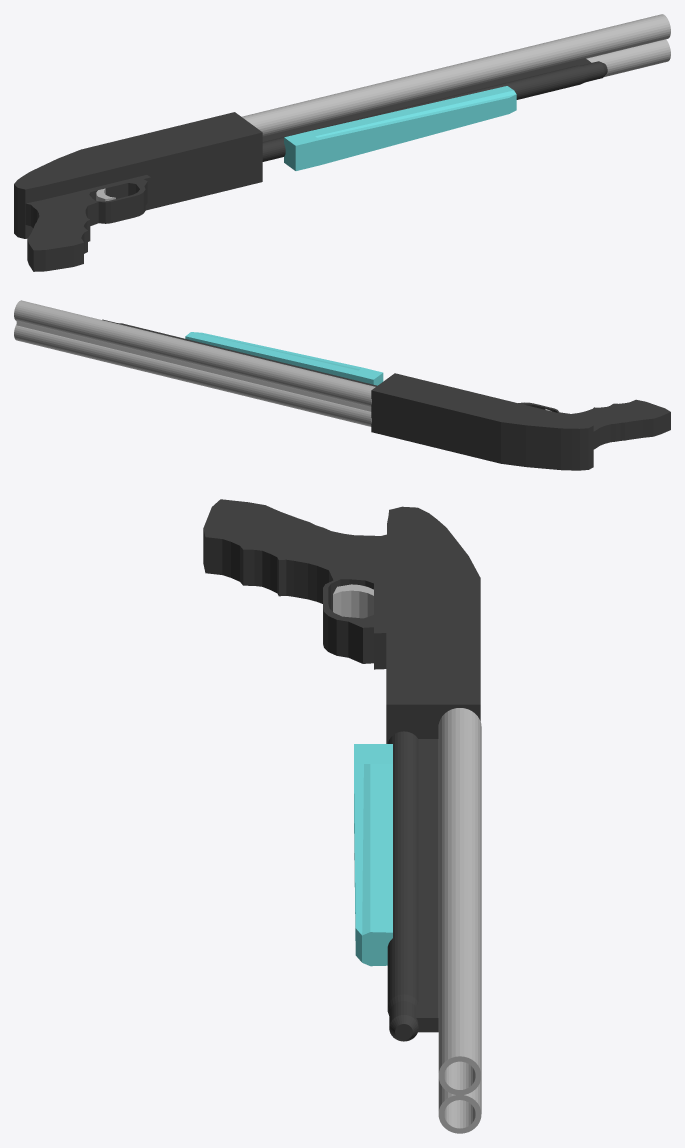
Rendered from ShotgunBasic.fbx.
3 renders of one model, top to bottom at view 1: azimuth 30°, elevation 25°; view 2: azimuth 150°, elevation 25°; view 3: azimuth 270°, elevation 25°, orthographic. The views are drawn at different scales.
Visible parts, largest first — view 1: Back, Barrels, Pump, Grip, Underhang; view 2: Barrels, Back, Grip, Pump, BarrelTopStrip, Underhang; view 3: Back, Barrels, Grip, Underhang, Pump.
Part boxes in pixels (left/top/right/bottom): Back: left=14, top=112, right=262, bottom=238; Barrels: left=241, top=14, right=670, bottom=136; Pump: left=284, top=86, right=516, bottom=170; Grip: left=25, top=175, right=150, bottom=271; Underhang: left=262, top=58, right=607, bottom=161; Barrels: left=14, top=300, right=375, bottom=426; Back: left=371, top=373, right=593, bottom=470; Grip: left=518, top=399, right=670, bottom=449; Pump: left=185, top=332, right=383, bottom=385; BarrelTopStrip: left=16, top=321, right=371, bottom=411; Underhang: left=102, top=319, right=377, bottom=386; Back: left=386, top=506, right=480, bottom=743; Barrels: left=438, top=708, right=481, bottom=1133; Grip: left=203, top=499, right=386, bottom=669; Underhang: left=387, top=731, right=438, bottom=1041; Pump: left=354, top=744, right=392, bottom=966.
Bounding box in the file's own units: 486 × 32.79 × 98.95.
